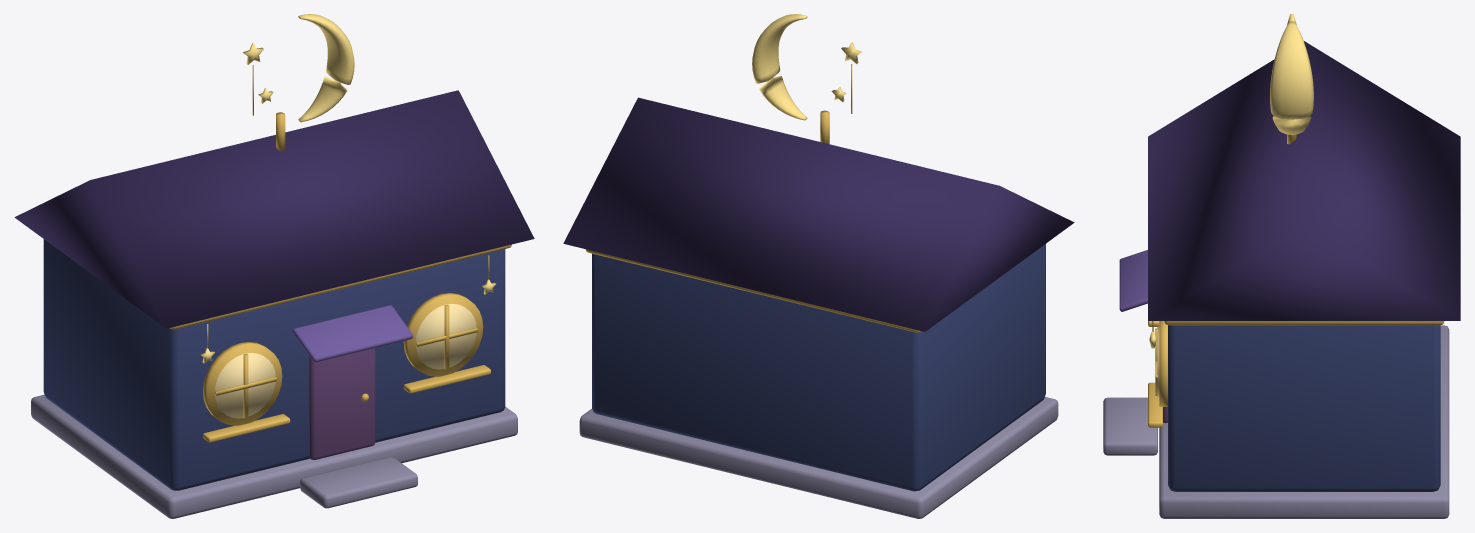
The model's file is night-shop.glb.
3 views of the same model, side by side, from view 1: azimuth 30°, elevation 25°; view 2: azimuth 150°, elevation 25°; view 3: azimuth 270°, elevation 25° (orthographic). The views are drawn at different scales.
Parts seen in each view (by area): view 1: shop; view 2: shop; view 3: shop.
Part boxes in pixels (<box>): shop: <box>14,14,534,518</box>; shop: <box>563,14,1074,518</box>; shop: <box>1103,14,1460,518</box>.
Size of the model in its own units: 2.99 by 3.19 by 2.45.
